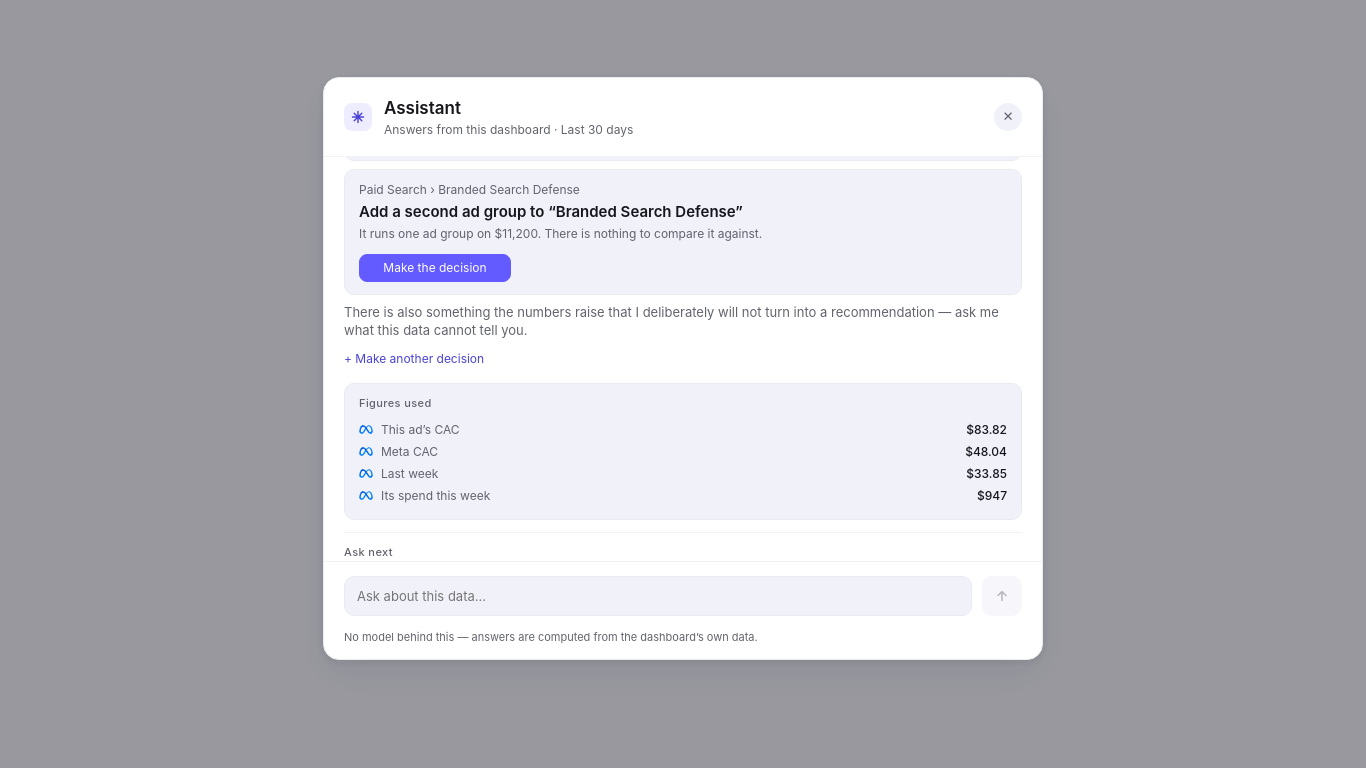
Test: a decision you write stays previewed, like one you accept › ⭐ does not vanish on submit
(page scrolled)
Click the button "+ Make another decision" at (414, 359), box [344, 347, 484, 371]
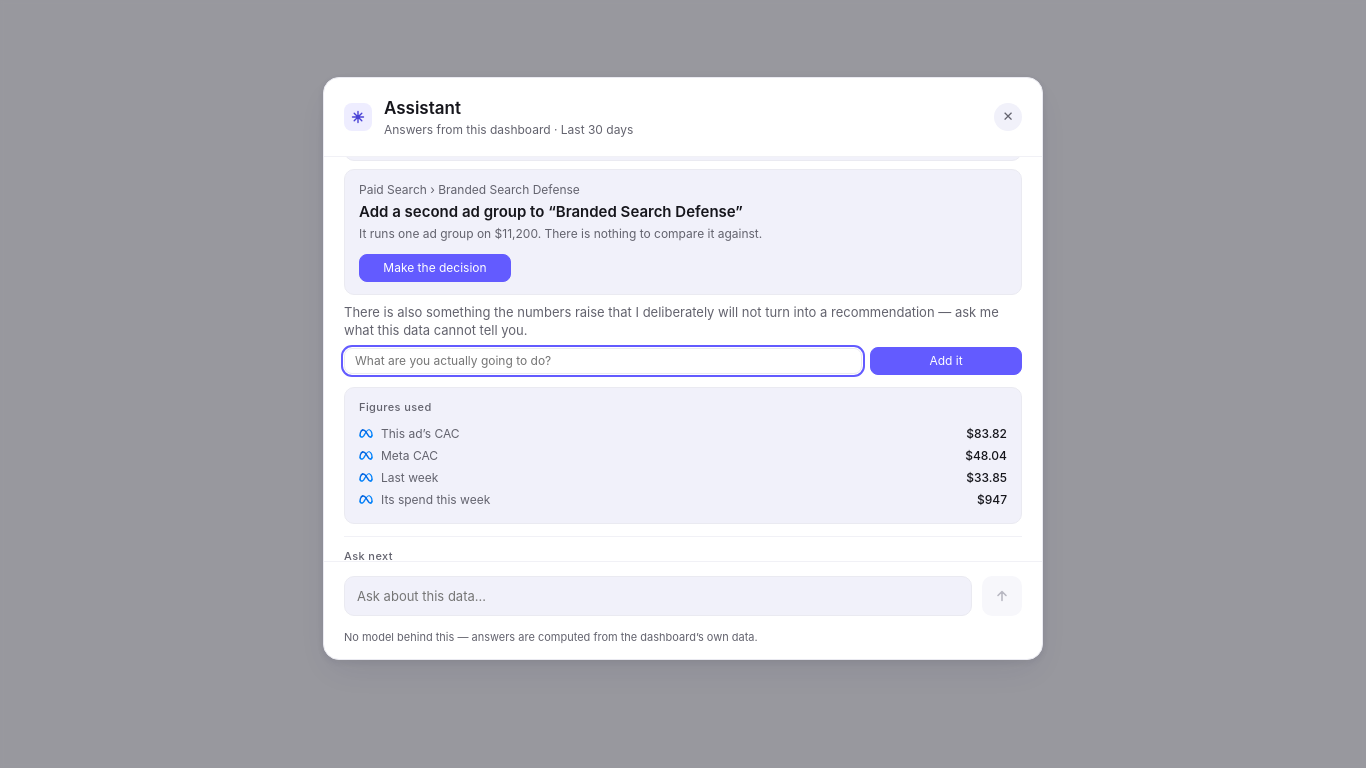
Type "Shift budget to affiliates" into the field with placeholder "What are you actually going to do?" at (603, 361), box [344, 348, 862, 374]
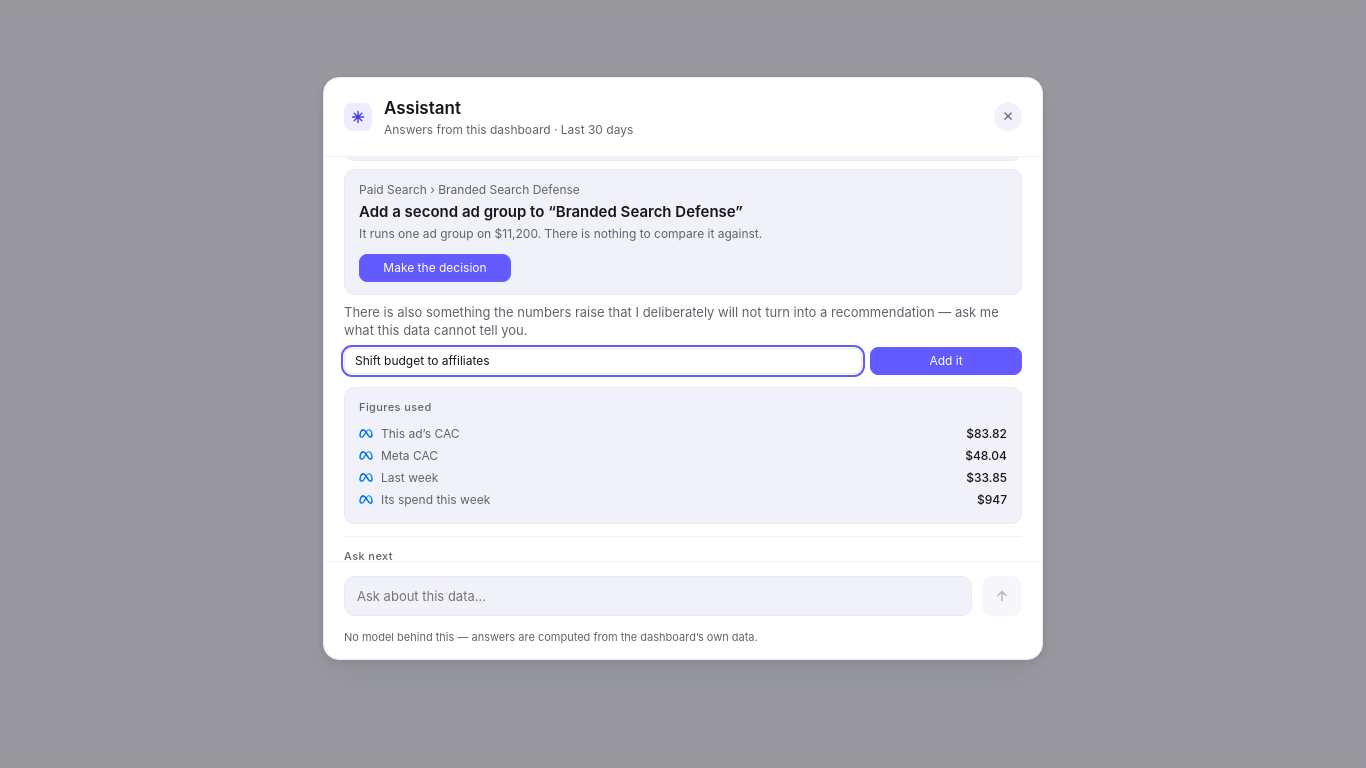
Click the button "Add it" at (946, 361), box [870, 347, 1022, 375]
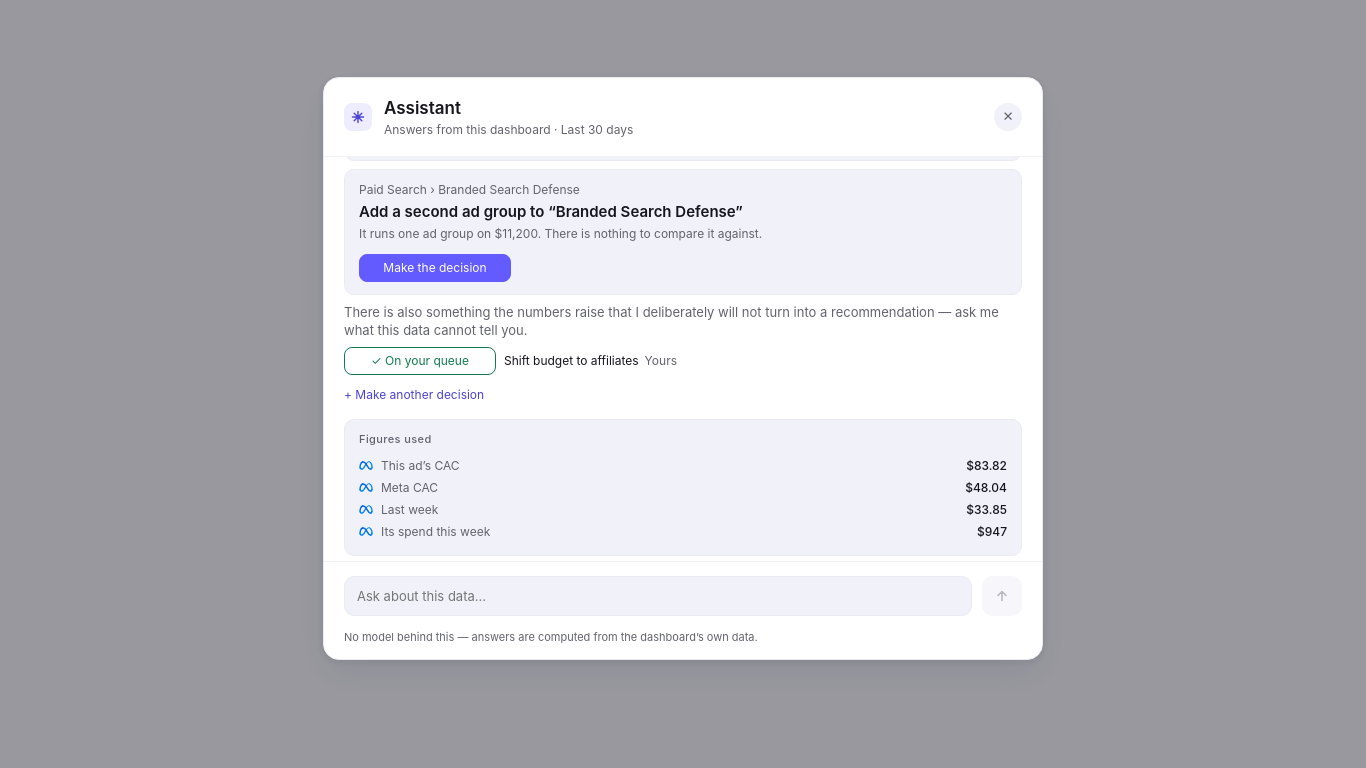
Check: the text "Shift budget to affiliates" is shown, box [504, 353, 639, 369]
